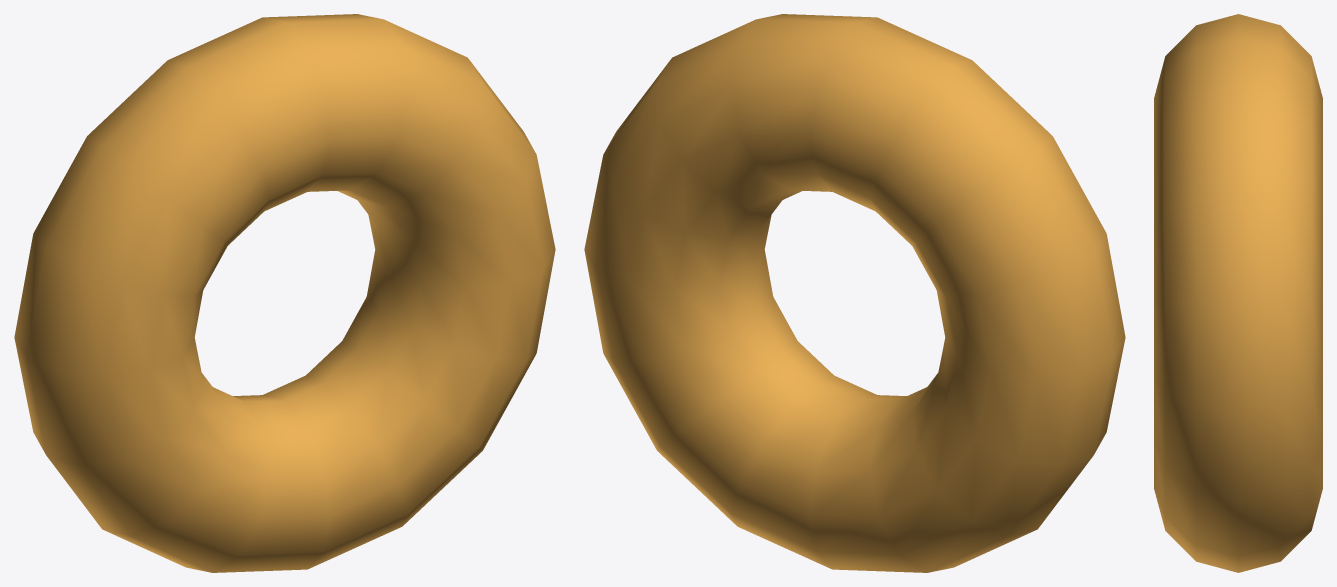
File: Coin.fbx
3 views of the same model, side by side, from view 1: azimuth 30°, elevation 25°; view 2: azimuth 150°, elevation 25°; view 3: azimuth 270°, elevation 25° (orthographic). The views are drawn at different scales.
Visible parts, largest first — view 1: Coin; view 2: Coin; view 3: Coin.
Boxes of the visible parts, x1,y1,x2,y2 form: Coin: (14,14,555,572); Coin: (584,14,1125,572); Coin: (1154,14,1322,572).
Bounding box in the file's own units: 78.7 × 78.7 × 23.77.
